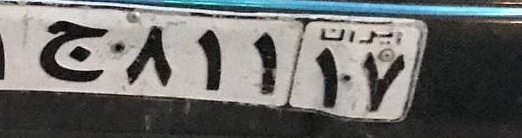character: (31, 14, 113, 85), (114, 15, 184, 92), (233, 23, 284, 99), (184, 18, 233, 94), (355, 45, 407, 113), (306, 48, 348, 108)
